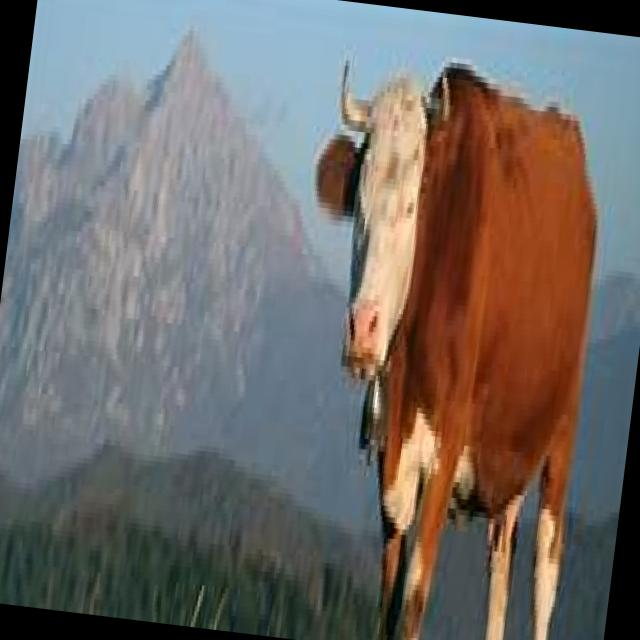animal: (260, 49, 616, 640)
